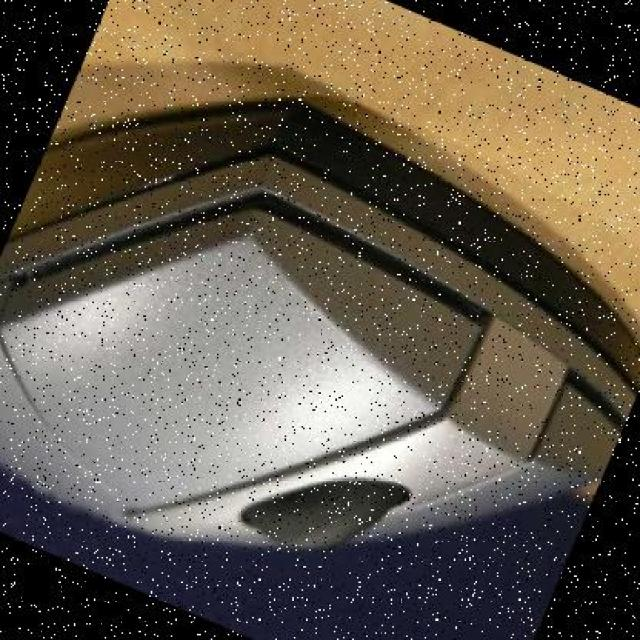mause: (0, 29, 638, 638)
